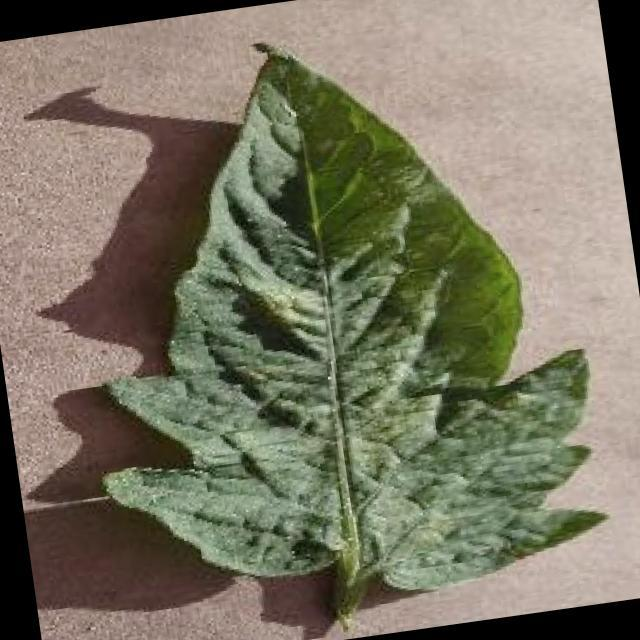Tomato spider mites leaf: (47, 0, 628, 635)
